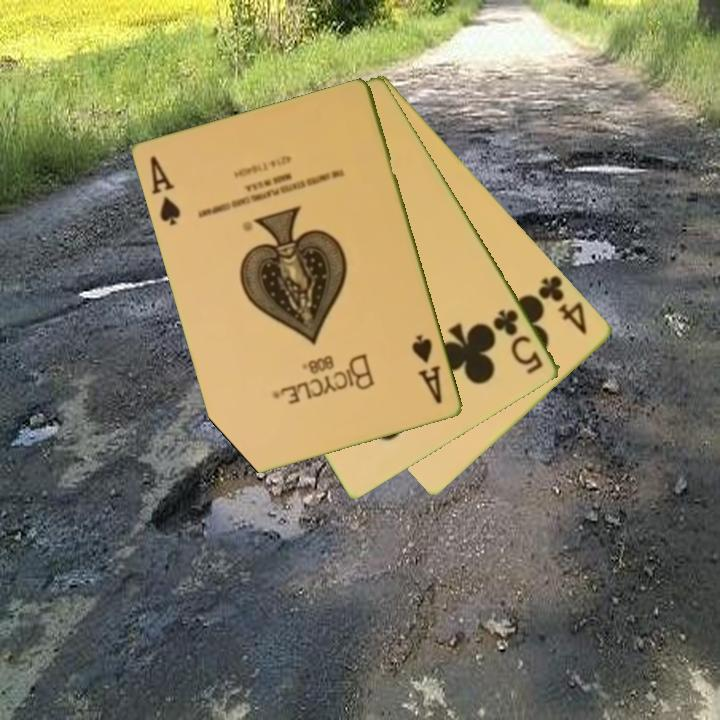4c: (532, 271, 591, 338)
5c: (490, 305, 547, 378)
As: (147, 152, 184, 229), (409, 331, 446, 407)
